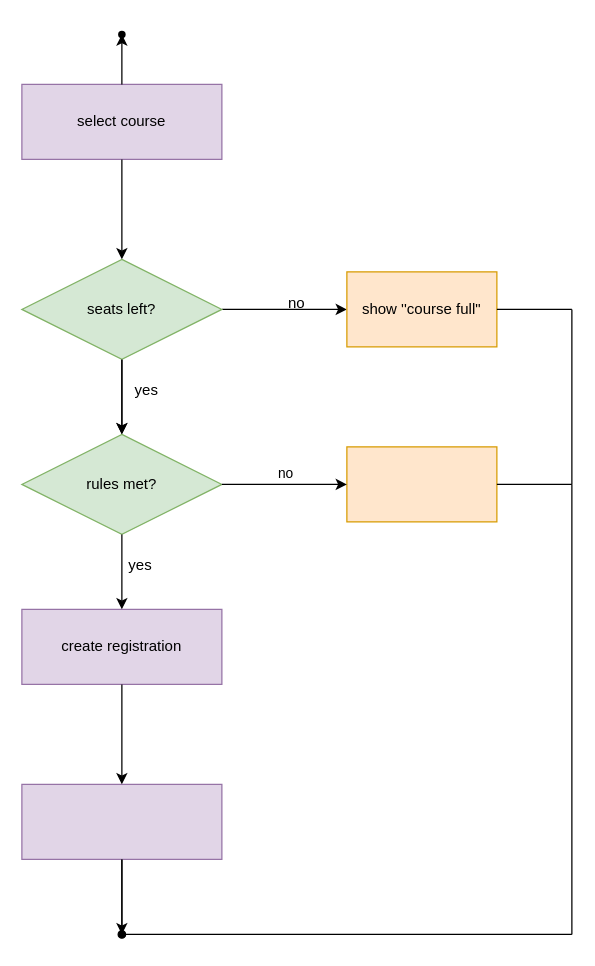
The diagram is 595 pixels wide and 966 high, and some of its shapes have lost their labels. Each missing label, with the centre of its shape:
show confirmation: the point at 121,821
show error: the point at 421,484
